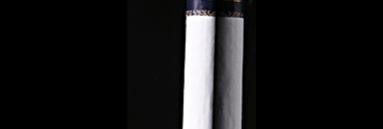Cigarette: (177, 0, 219, 129), (219, 0, 245, 129)
